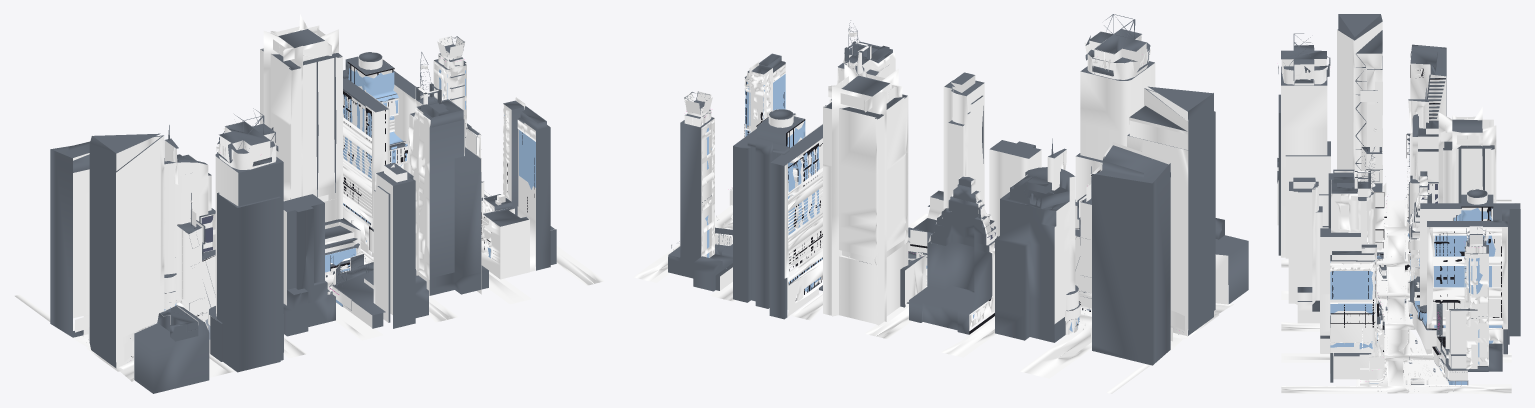
The model's file is cyberpunk-city-horizon.glb.
3 renders of one model, left to right at view 1: azimuth 30°, elevation 25°; view 2: azimuth 150°, elevation 25°; view 3: azimuth 270°, elevation 25°, orthographic. The views are drawn at different scales.
Visible parts, largest first — view 1: metal_gray, Material.005, Material.009, advertising_screens_texture_01, Material.003, Material.006, material_0, Material.002, metal_black, Material.007, Material.001; view 2: metal_gray, Material.005, Material.009, advertising_screens_texture_01, Material.003, Material.006, Material.002, metal_black, Material.007; view 3: Material.005, metal_gray, advertising_screens_texture_01, Material.003, Material.009, Material.006, Material.001, Material.007, metal_black, material_0, Material.002, Material.008.
Boxes of the visible parts, bbox=[...] form: metal_gray: bbox=[50, 29, 556, 393]; Material.005: bbox=[73, 48, 481, 362]; Material.009: bbox=[83, 14, 535, 379]; advertising_screens_texture_01: bbox=[82, 36, 535, 336]; Material.003: bbox=[15, 193, 604, 381]; Material.006: bbox=[164, 68, 535, 310]; material_0: bbox=[325, 194, 556, 288]; Material.002: bbox=[75, 220, 373, 361]; metal_black: bbox=[130, 60, 534, 357]; Material.007: bbox=[164, 127, 278, 329]; Material.001: bbox=[331, 97, 524, 271]; metal_gray: bbox=[668, 14, 1248, 365]; Material.005: bbox=[823, 41, 1188, 329]; Material.009: bbox=[744, 31, 1228, 335]; advertising_screens_texture_01: bbox=[671, 64, 1188, 334]; Material.003: bbox=[633, 205, 1233, 393]; Material.006: bbox=[705, 74, 1079, 331]; Material.002: bbox=[789, 202, 1184, 341]; metal_black: bbox=[744, 82, 1100, 334]; Material.007: bbox=[732, 40, 1150, 325]; Material.005: bbox=[1281, 22, 1494, 335]; metal_gray: bbox=[1277, 14, 1520, 391]; advertising_screens_texture_01: bbox=[1320, 58, 1520, 391]; Material.003: bbox=[1281, 199, 1511, 393]; Material.009: bbox=[1277, 59, 1496, 356]; Material.006: bbox=[1330, 208, 1501, 384]; Material.001: bbox=[1362, 247, 1467, 391]; Material.007: bbox=[1295, 60, 1422, 390]; metal_black: bbox=[1330, 65, 1501, 380]; material_0: bbox=[1330, 136, 1410, 386]; Material.002: bbox=[1361, 148, 1432, 354]; Material.008: bbox=[1360, 363, 1424, 385].
Bounding box in the file's own units: 29.83 × 15.28 × 15.74.
